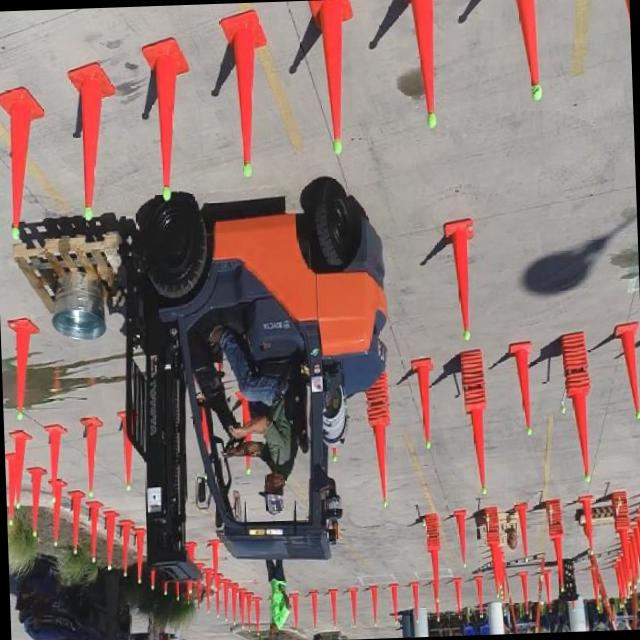driver: (209, 328, 302, 516)
forklift: (118, 186, 396, 584)
person: (266, 564, 291, 640)
